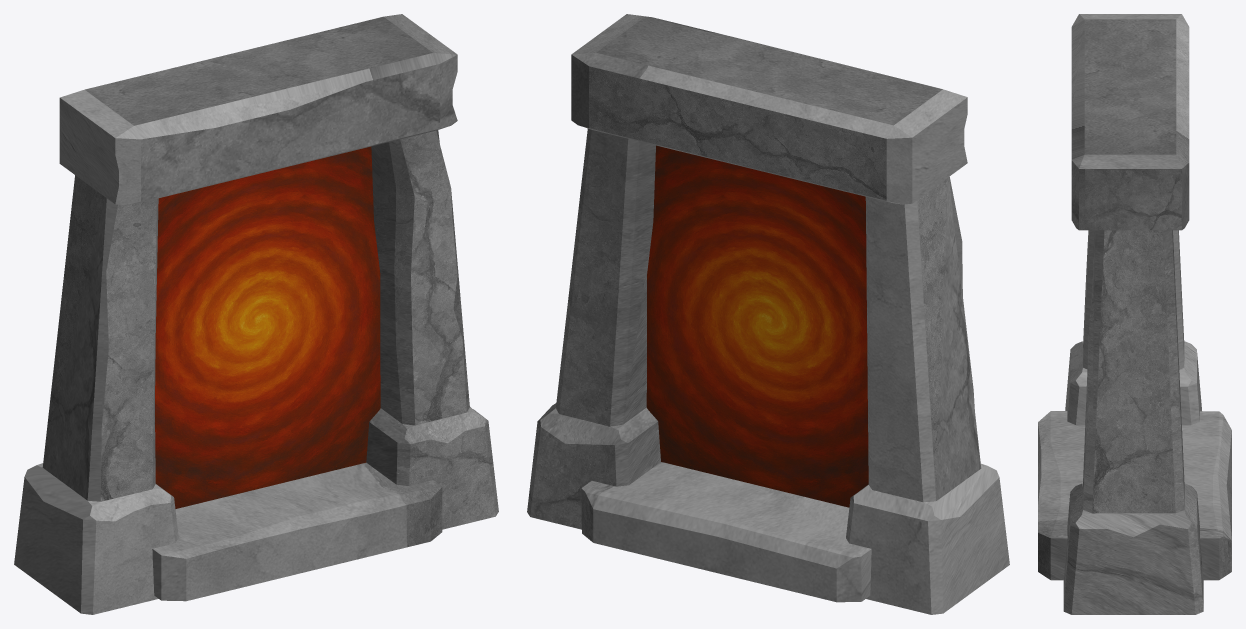
Rendered from PORTAL.fbx.
3 views of the same model, side by side, from view 1: azimuth 30°, elevation 25°; view 2: azimuth 150°, elevation 25°; view 3: azimuth 270°, elevation 25° (orthographic). The views are drawn at different scales.
Parts seen in each view (by area): view 1: Stone Portal, Plane; view 2: Stone Portal, Plane; view 3: Stone Portal.
Boxes of the visible parts, x1,y1,x2,y2 form: Stone Portal: (14, 14, 498, 614); Plane: (155, 146, 380, 508); Stone Portal: (527, 14, 1009, 614); Plane: (646, 145, 868, 507); Stone Portal: (1038, 14, 1231, 614).
Size of the model in its own units: 512 by 548 by 222.
